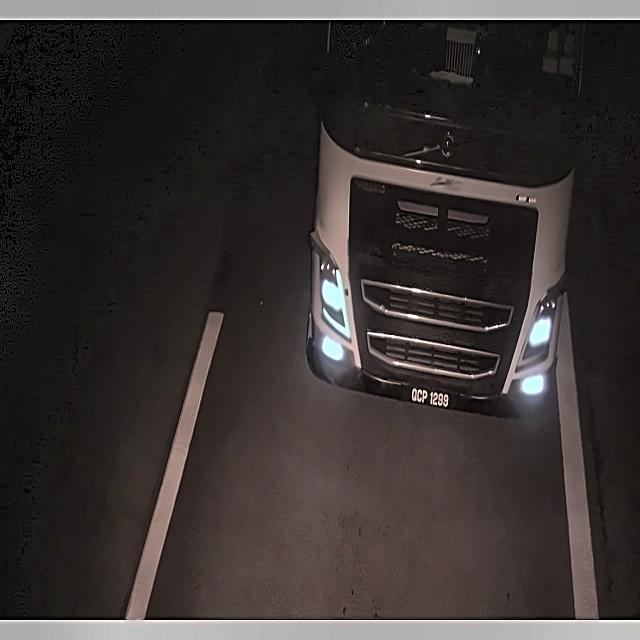car: (400, 382, 460, 414)
